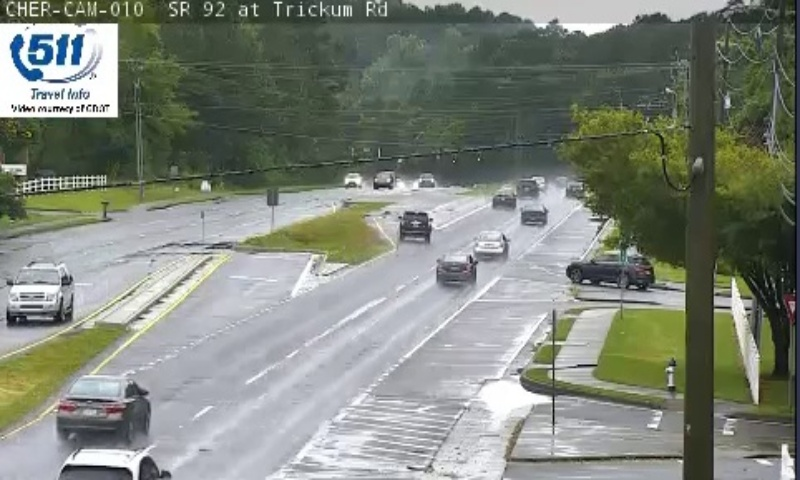car: (56, 375, 149, 433), (436, 252, 476, 283), (473, 230, 507, 258), (400, 211, 431, 240), (519, 203, 546, 223)
